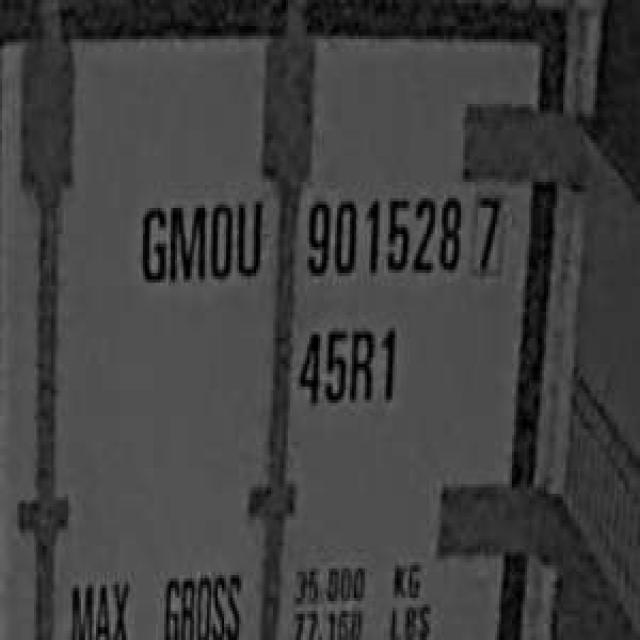dv: (467, 182, 514, 283)
owner: (134, 185, 267, 296)
serial: (299, 179, 463, 286)
size: (292, 312, 403, 412)
